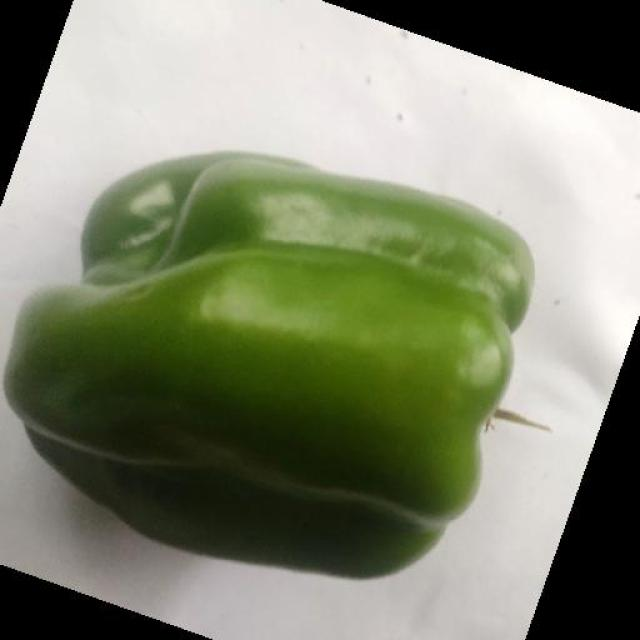Fresh_Capsicum: (1, 127, 538, 540)
